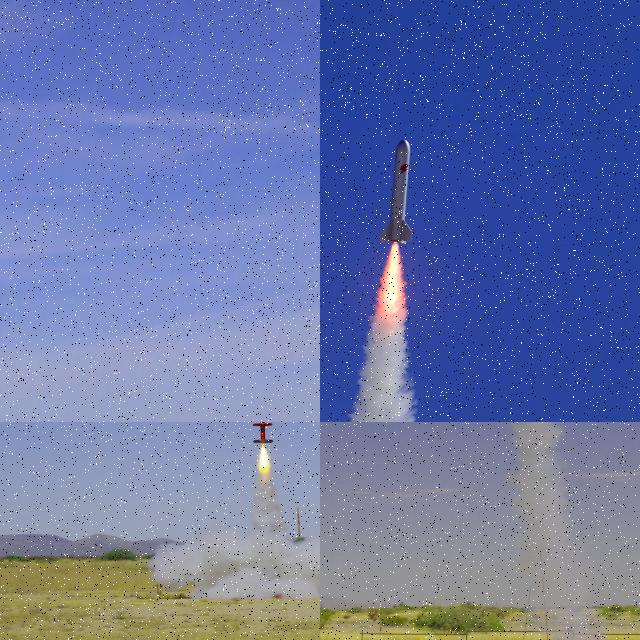Rocket: (376, 132, 416, 246), (252, 422, 273, 443)
